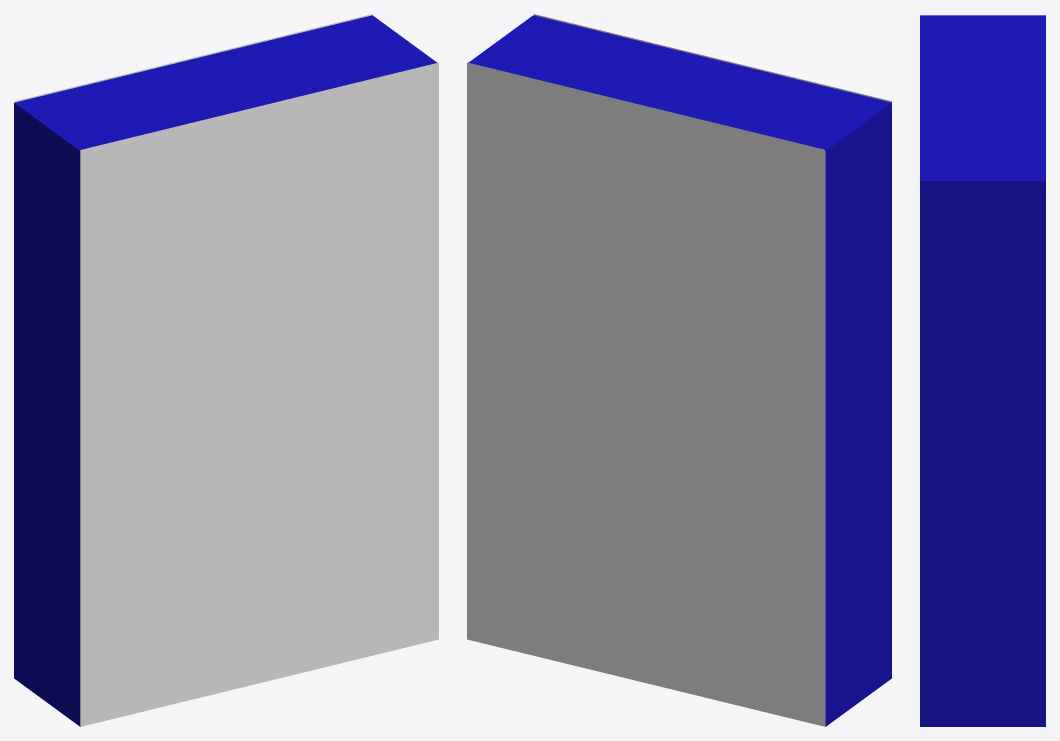
3 views of the same model, side by side, from view 1: azimuth 30°, elevation 25°; view 2: azimuth 150°, elevation 25°; view 3: azimuth 270°, elevation 25° (orthographic). The views are drawn at different scales.
Visible parts, largest first — view 1: SketchUp (×2), image_0, image_1; view 2: image_1, SketchUp (×2), image_0; view 3: SketchUp.
Part boxes in pixels (x1,y1,x2,y2): SketchUp (×2): (14, 15, 438, 726); image_0: (80, 63, 438, 725); image_1: (14, 14, 372, 102); image_1: (467, 62, 824, 726); SketchUp (×2): (467, 15, 891, 726); image_0: (534, 14, 891, 102); SketchUp: (920, 15, 1045, 726).
Size of the model in its own units: 47.53 by 15.22 by 73.08.
